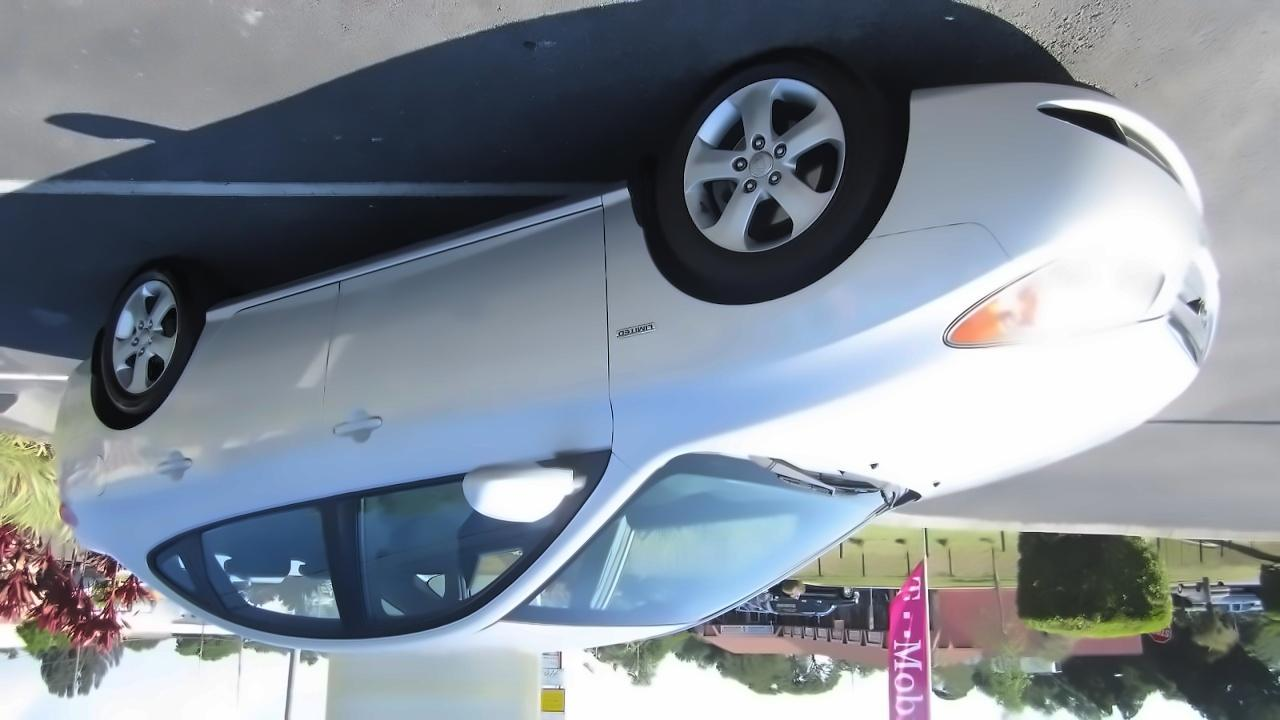Car hood: (760, 317, 1191, 503)
Fender - -F-L-: (601, 183, 1018, 469)
Fender - -R-L-: (86, 287, 210, 519)
Front bumper: (899, 80, 1226, 260)
Headlight - -L-: (940, 197, 1198, 360)
Passenger-s door - -F-L-: (329, 200, 616, 643)
Passenger-s door - -R-L-: (155, 282, 344, 651)
Rear bumper: (35, 354, 110, 447)
Rear light - -L-: (49, 479, 95, 533)
Side bumper - -L-: (179, 175, 651, 329)
Side mirror - -L-: (455, 449, 595, 531)
